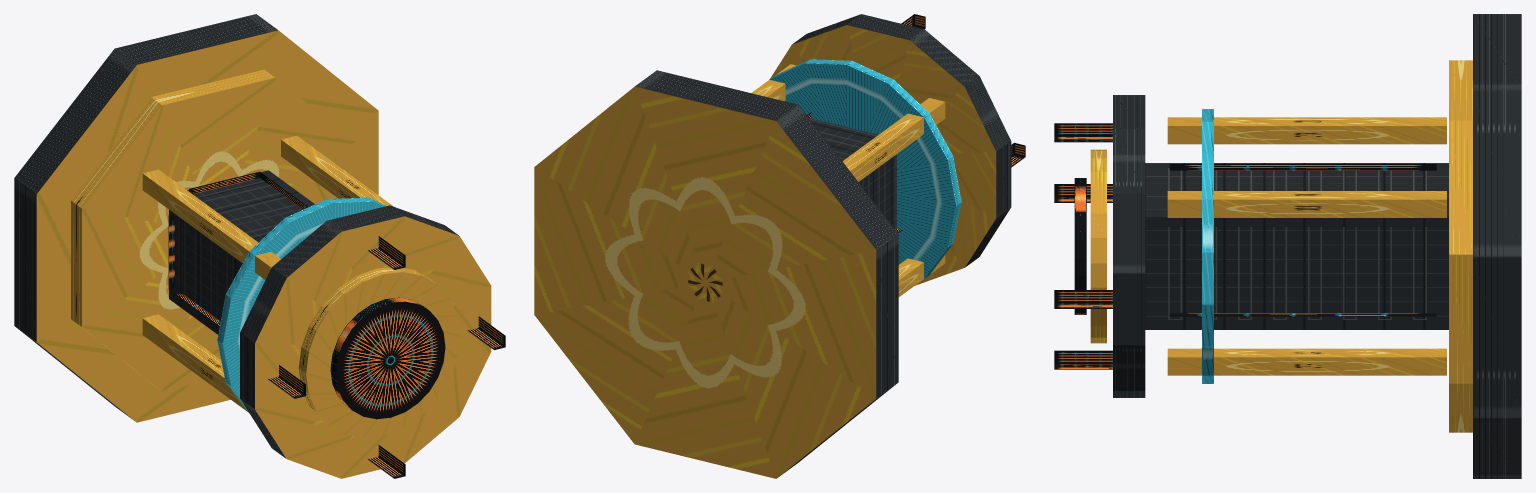
Rendered from rustchain_validator_node_pillar_source.obj.
The picture shows the model from 3 angles, left to right: view 1: azimuth 30°, elevation 25°; view 2: azimuth 150°, elevation 25°; view 3: azimuth 270°, elevation 25°; orthographic projection. The views are drawn at different scales.
Parts seen in each view (by area): view 1: rustchain_validator_node_pillar; view 2: rustchain_validator_node_pillar; view 3: rustchain_validator_node_pillar.
Part boxes in pixels (x1,y1,x2,y2): rustchain_validator_node_pillar: (14,14,505,478); rustchain_validator_node_pillar: (534,14,1025,478); rustchain_validator_node_pillar: (1054,14,1521,478).
Size of the model in its own units: 2.12 by 2.12 by 2.31.
Materials: 4 (4 with a texture image).
